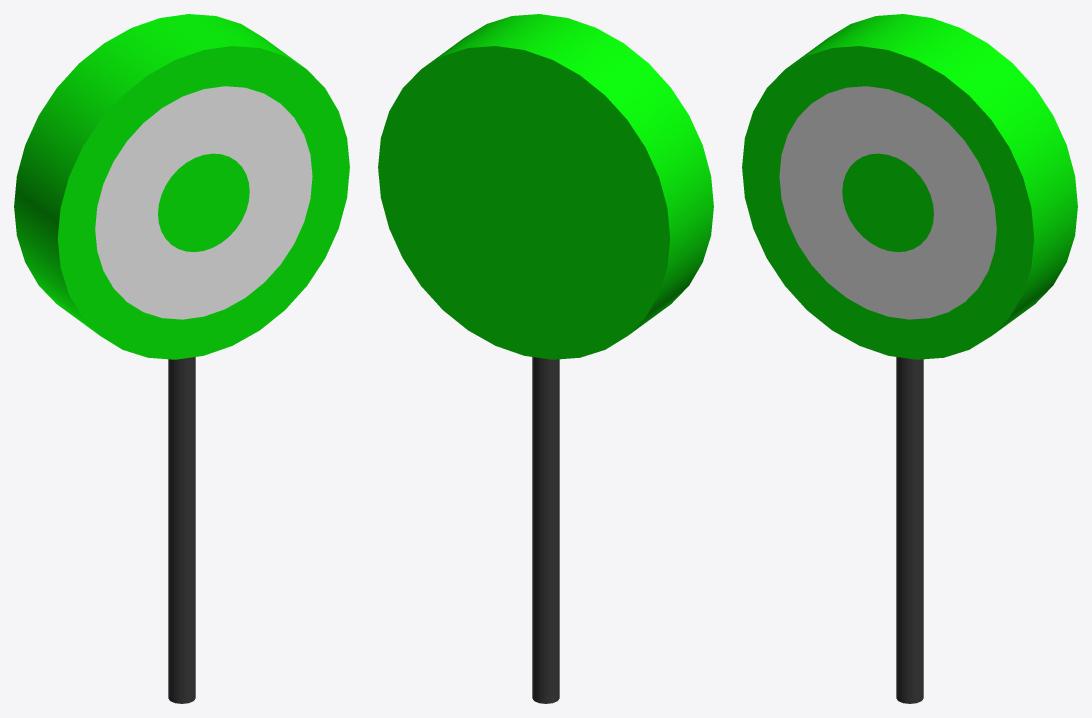
Rendered from Yesil_Kucuk_hedef.FBX.
The picture shows the model from 3 angles, left to right: view 1: azimuth 30°, elevation 25°; view 2: azimuth 150°, elevation 25°; view 3: azimuth 330°, elevation 25°; orthographic projection.
Visible parts, largest first — view 1: Kirmizi_Kucuk_Hedef; view 2: Kirmizi_Kucuk_Hedef; view 3: Kirmizi_Kucuk_Hedef.
Boxes of the visible parts, x1=… form: Kirmizi_Kucuk_Hedef: x1=14, y1=14, x2=349, y2=703; Kirmizi_Kucuk_Hedef: x1=378, y1=14, x2=713, y2=703; Kirmizi_Kucuk_Hedef: x1=742, y1=14, x2=1077, y2=703.
Bounding box in the file's own units: 162 × 353 × 42.09.
